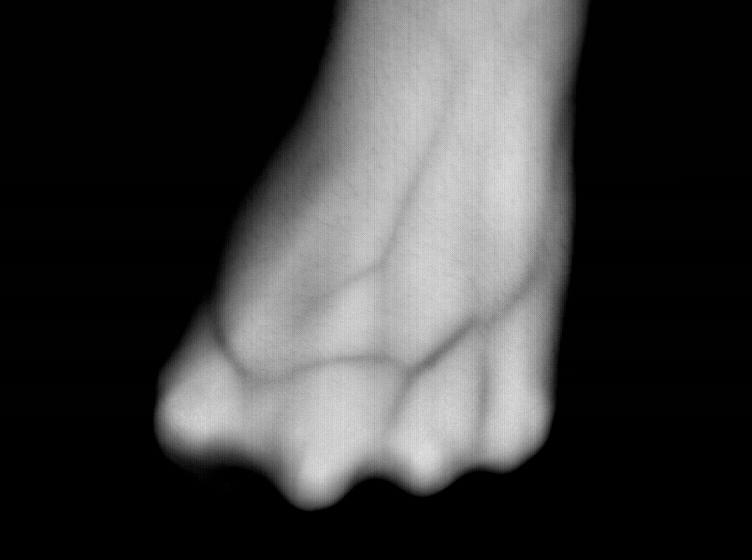Vein: (219, 315, 477, 383)
